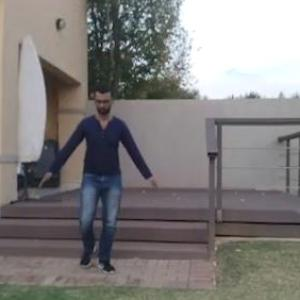land: (26, 67, 157, 294)
